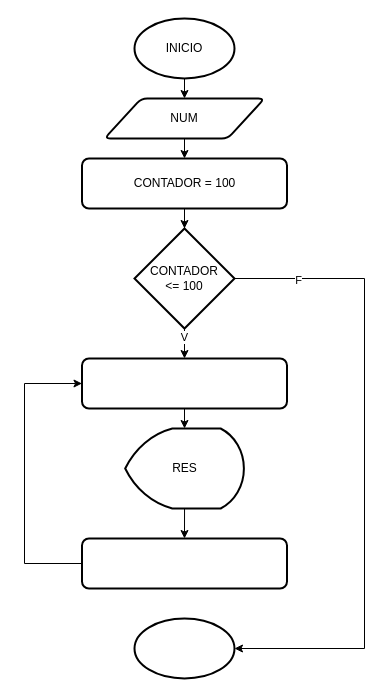
This 390x696 diagram has some shape labels left out. The shapes that lost their labels are listed below. From the top down, each one's centre as x and y in pixels, then its label:
At (x=184, y=383): "RES = NUMERO * CONTADOR".
At (x=184, y=563): "ADICIONAR 2 AO CONTADOR".
At (x=184, y=648): "FIM".
